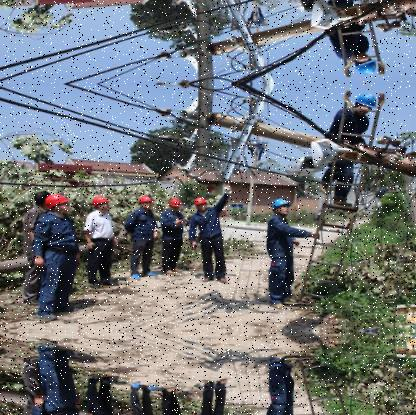helmet: (43, 192, 72, 212), (354, 92, 378, 115), (354, 52, 378, 75), (272, 195, 293, 217), (93, 191, 112, 213), (195, 193, 211, 211), (139, 192, 154, 210), (169, 195, 183, 212)
